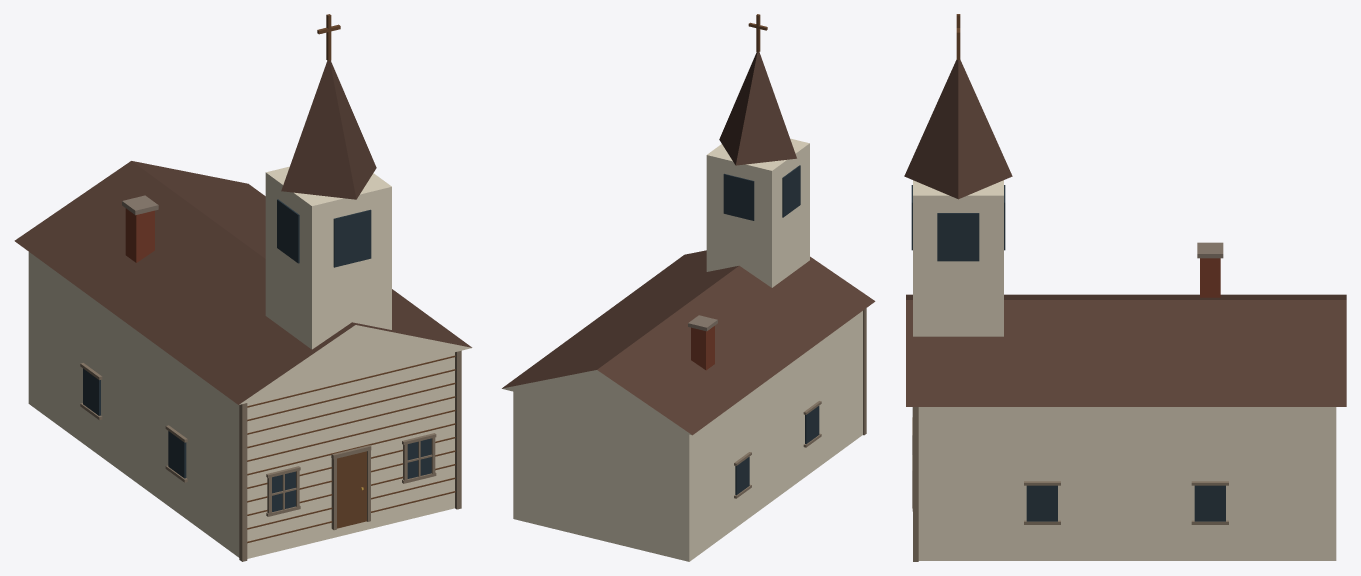
The model's file is SM_Church.fbx.
3 renders of one model, left to right at view 1: azimuth 30°, elevation 25°; view 2: azimuth 150°, elevation 25°; view 3: azimuth 270°, elevation 25°, orthographic. The views are drawn at different scales.
Parts seen in each view (by area): view 1: Church; view 2: Church; view 3: Church.
Boxes of the visible parts, bbox=[...] form: Church: bbox=[14, 14, 472, 561]; Church: bbox=[502, 14, 875, 561]; Church: bbox=[904, 14, 1346, 561].
Bounding box in the file's own units: 760 × 1265 × 1560.
